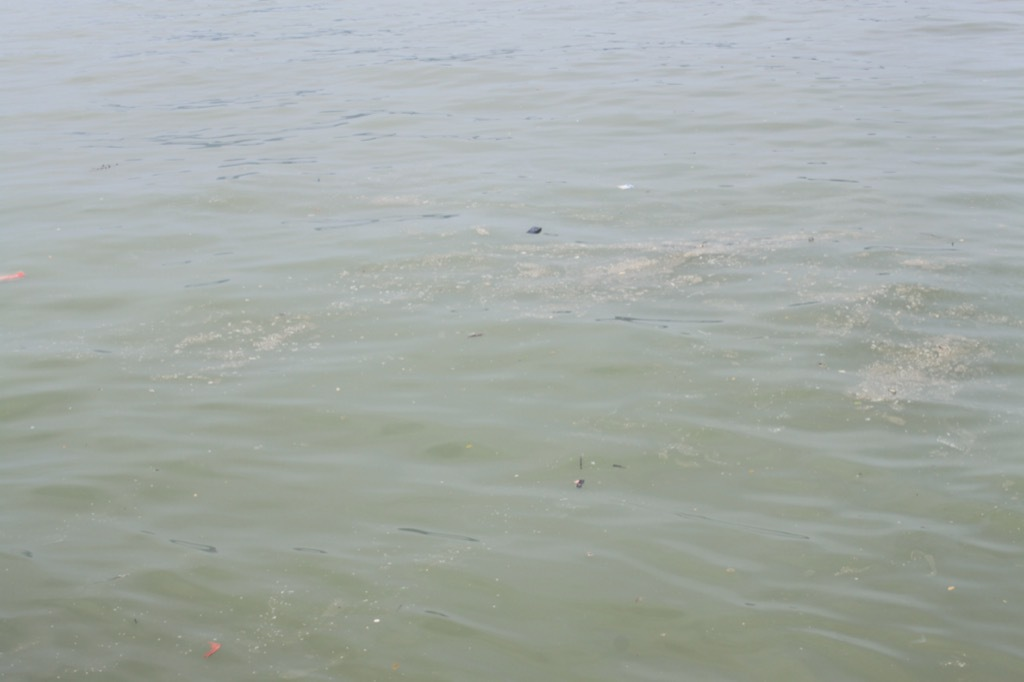organic: (455, 323, 499, 344), (604, 457, 637, 480), (569, 450, 593, 477), (570, 472, 594, 495)
plastic: (194, 625, 227, 668), (516, 213, 552, 248), (1, 257, 32, 295), (606, 172, 641, 205), (800, 226, 824, 251)
